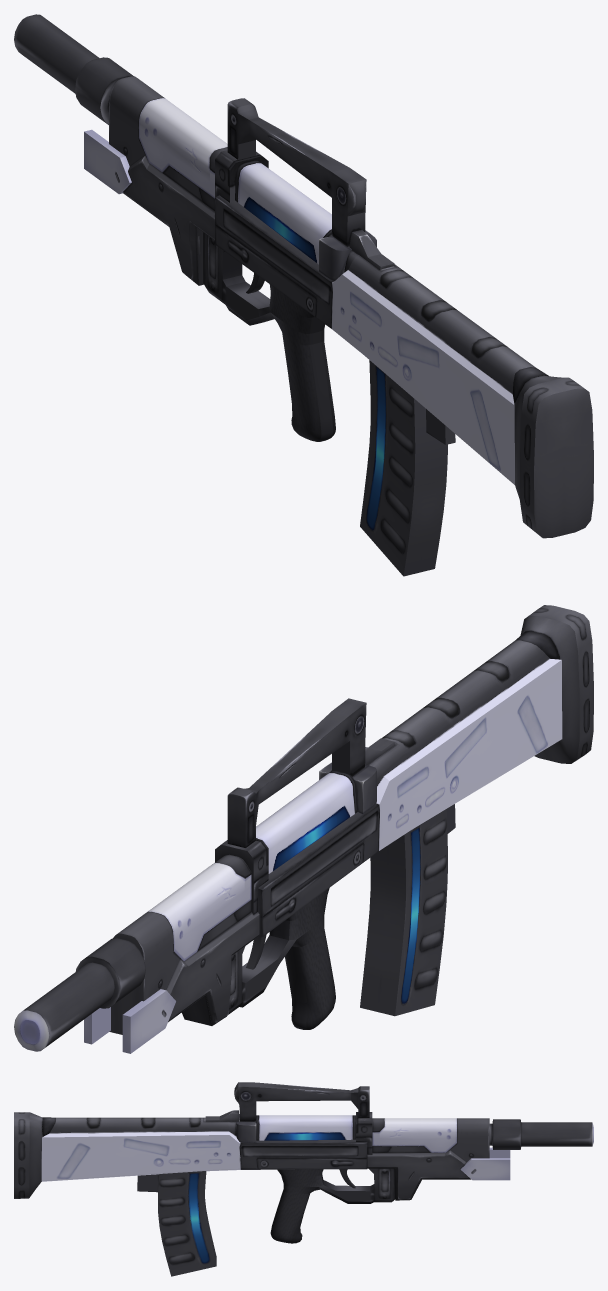
Rendered from ots14.FBX.
3 renders of one model, top to bottom at view 1: azimuth 30°, elevation 25°; view 2: azimuth 150°, elevation 25°; view 3: azimuth 270°, elevation 25°, orthographic. The views are drawn at different scales.
Visible parts, largest first — view 1: Object004; view 2: Object004; view 3: Object004.
Boxes of the visible parts, bbox=[...] form: Object004: bbox=[14, 14, 593, 576]; Object004: bbox=[14, 605, 593, 1053]; Object004: bbox=[14, 1082, 593, 1276].
Size of the model in its own units: 68.84 by 380 by 1062.
Materials: 2 (2 with a texture image).
